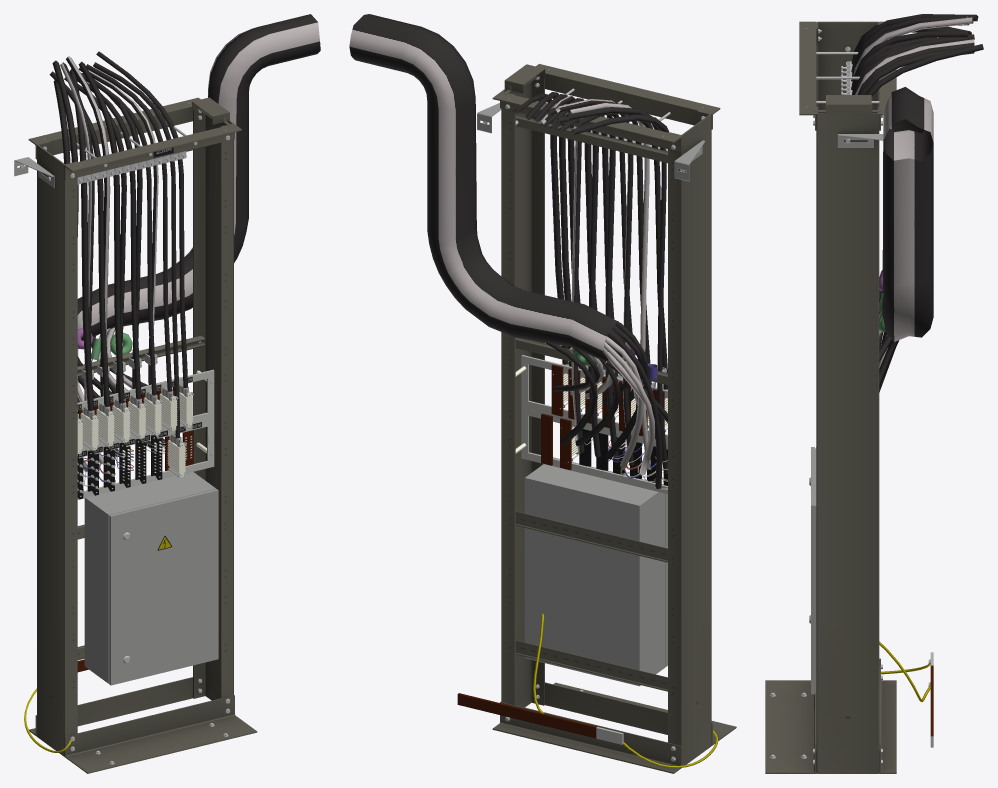
Rendered from stativ230a.fbx.
3 renders of one model, left to right at view 1: azimuth 30°, elevation 25°; view 2: azimuth 150°, elevation 25°; view 3: azimuth 270°, elevation 25°, orthographic. The views are drawn at different scales.
Parts seen in each view (by area): view 1: cabinet_stativ230a; view 2: cabinet_stativ230a; view 3: cabinet_stativ230a.
Boxes of the visible parts, x1=… form: cabinet_stativ230a: x1=14, y1=14, x2=320, y2=773; cabinet_stativ230a: x1=349, y1=14, x2=736, y2=773; cabinet_stativ230a: x1=765, y1=14, x2=983, y2=773.
Size of the model in its own units: 113 by 229 by 63.
